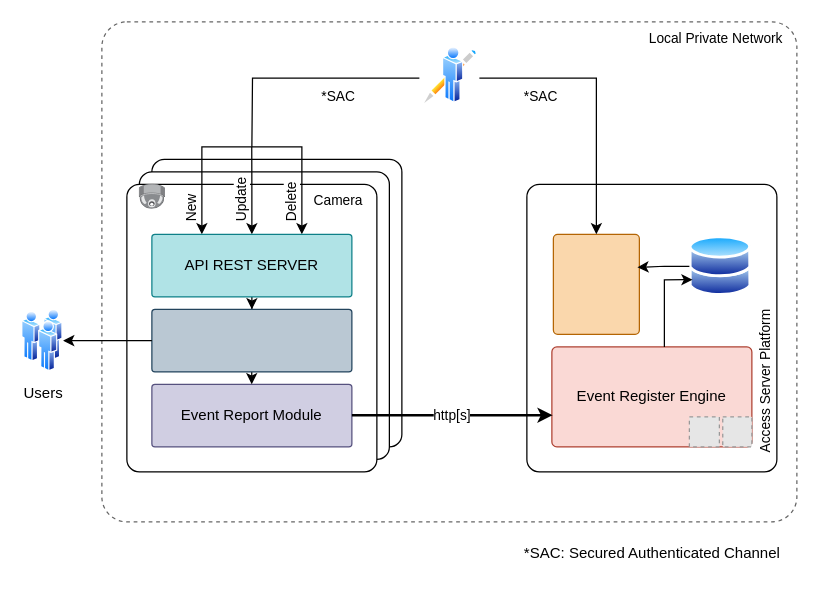
This 819x594 diagram has some shape labels left out. Grey dashed boxes stand in for pictures. Here are the shapes that lost their labels. From the top down, the centre of each, then its label:
pixel 449 77: Administrator
pixel 595 283: Event Dashboard
pixel 720 265: Local DB
pixel 251 340: Access Module
